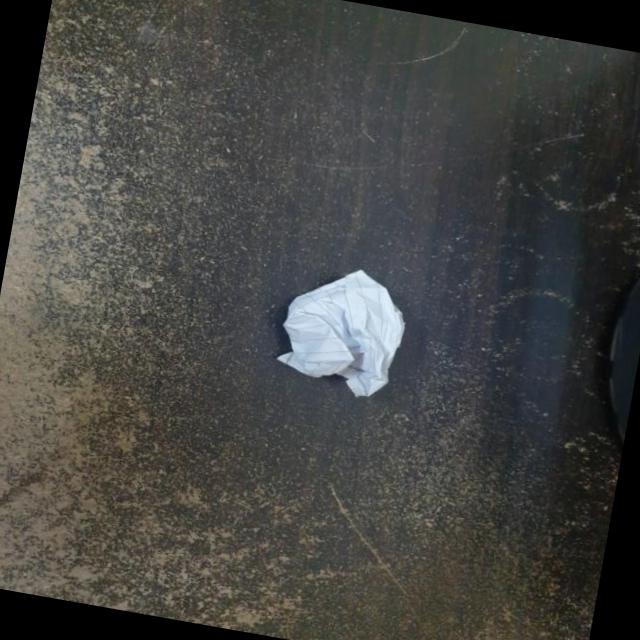cardboard paper: (279, 268, 406, 393)
